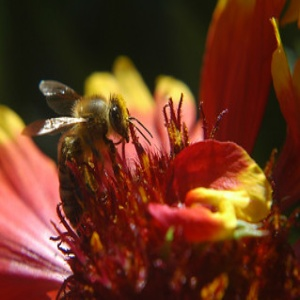bee: (21, 78, 153, 232)
